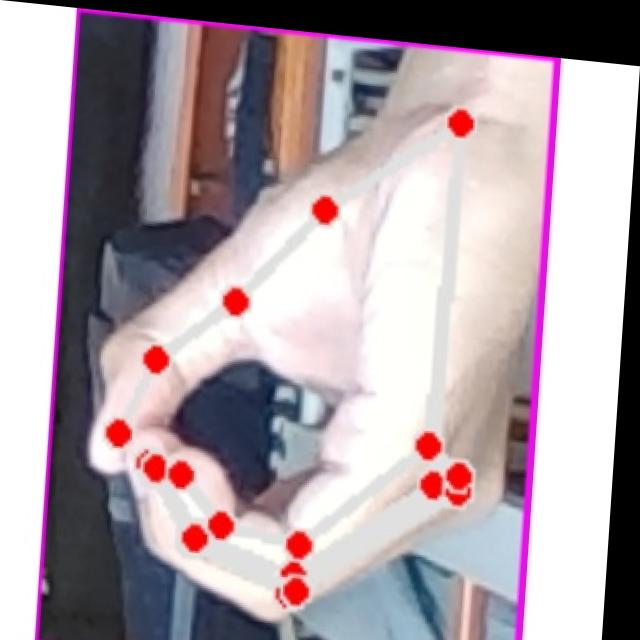O: (75, 44, 543, 640)
